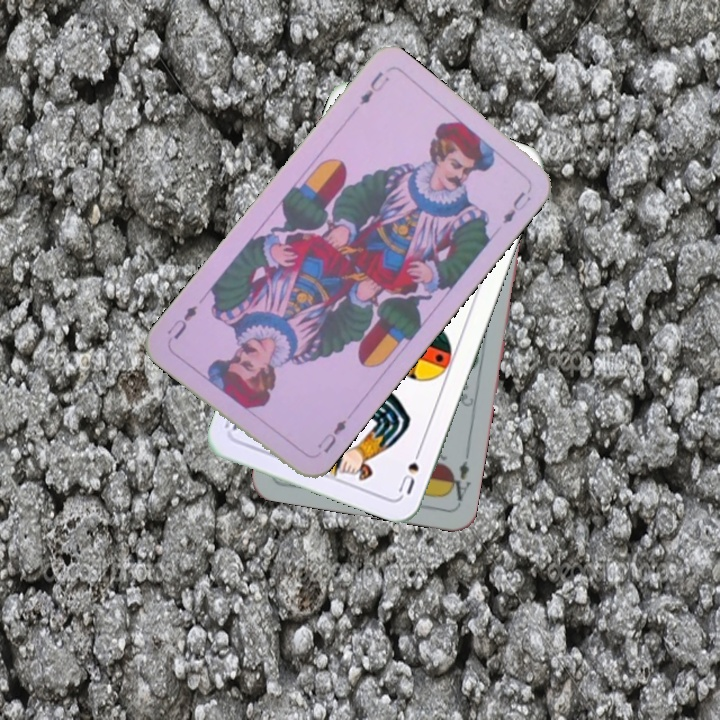EA: (444, 447, 473, 506)
EU: (313, 415, 350, 456), (355, 67, 392, 108)
SU: (394, 441, 426, 497)
